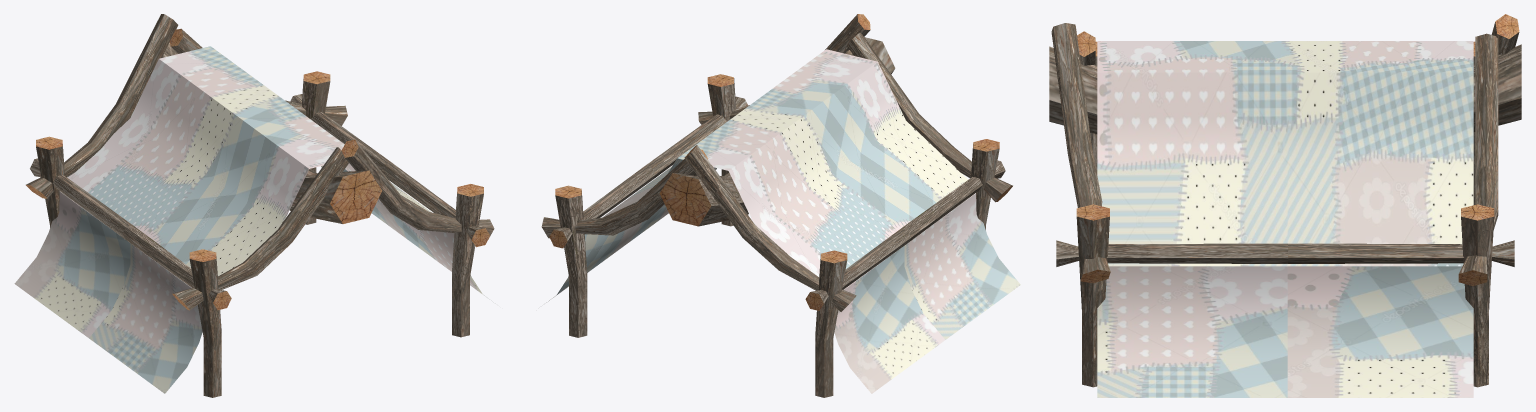
File: tentV2.obj
The picture shows the model from 3 angles, left to right: view 1: azimuth 30°, elevation 25°; view 2: azimuth 150°, elevation 25°; view 3: azimuth 270°, elevation 25°; orthographic projection. The views are drawn at different scales.
Visible parts, largest first — view 1: pCube4; view 2: pCube4; view 3: pCube4.
Part boxes in pixels (<box>): pCube4: <box>14,14,495,397</box>; pCube4: <box>541,14,1020,397</box>; pCube4: <box>1049,14,1521,397</box>.
Bounding box in the file's own units: 3.31 × 2.14 × 3.18.
Materials: 1 (1 with a texture image).
